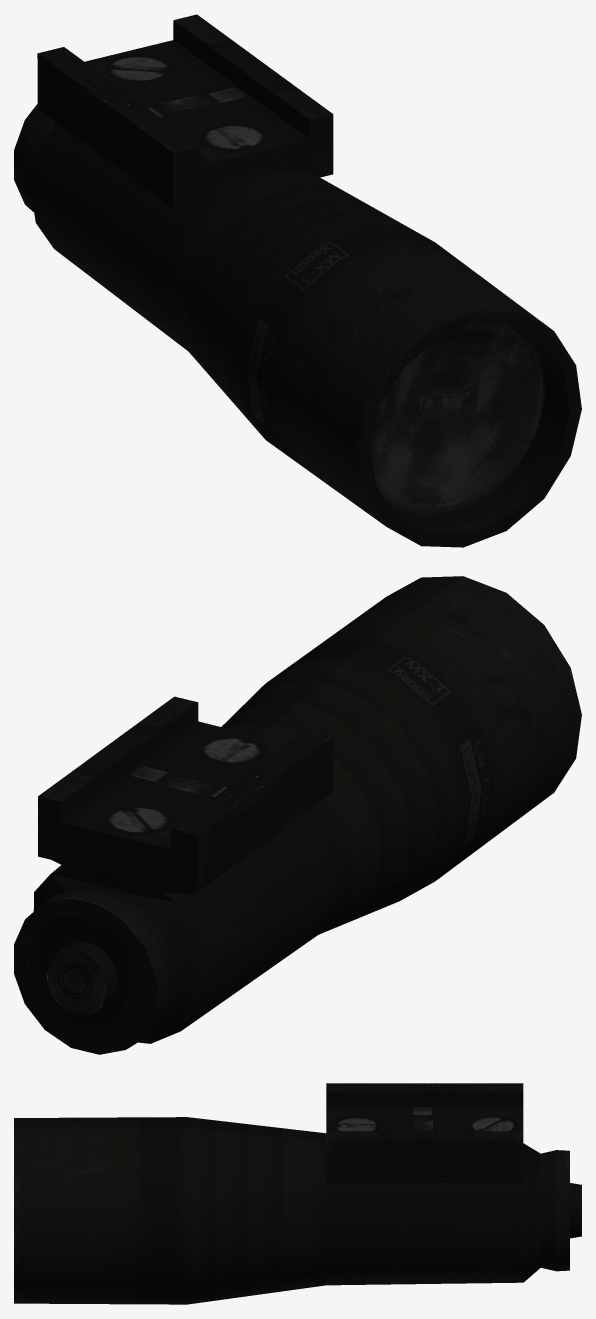
File: PISTOL_FLASHLIGHT.FBX
3 views of the same model, one above another, from view 1: azimuth 30°, elevation 25°; view 2: azimuth 150°, elevation 25°; view 3: azimuth 270°, elevation 25° (orthographic). The views are drawn at different scales.
Visible parts, largest first — view 1: Mesh_0012; view 2: Mesh_0012; view 3: Mesh_0012.
Part boxes in pixels (box(x1,y1,x2,y2)): Mesh_0012: box(14, 14, 581, 547); Mesh_0012: box(14, 576, 581, 1054); Mesh_0012: box(14, 1083, 581, 1304).
Bounding box in the file's own units: 3.09 × 3.35 × 9.34.
